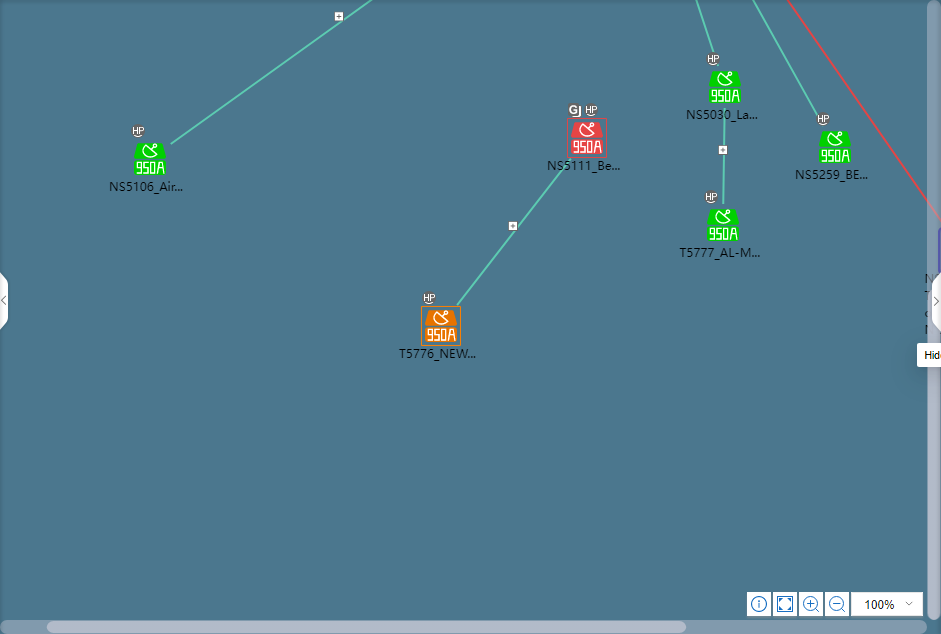Link_Blue: (168, 0, 374, 146), (455, 158, 572, 305), (750, 0, 827, 129), (693, 0, 723, 70), (721, 107, 727, 205)
Link_Red: (786, 0, 941, 224)
RTN_Green: (818, 131, 850, 163), (709, 71, 740, 103), (134, 143, 165, 175), (707, 209, 737, 241)
RTN_Orange: (424, 310, 457, 342)
RTN_Red: (569, 119, 605, 156)
